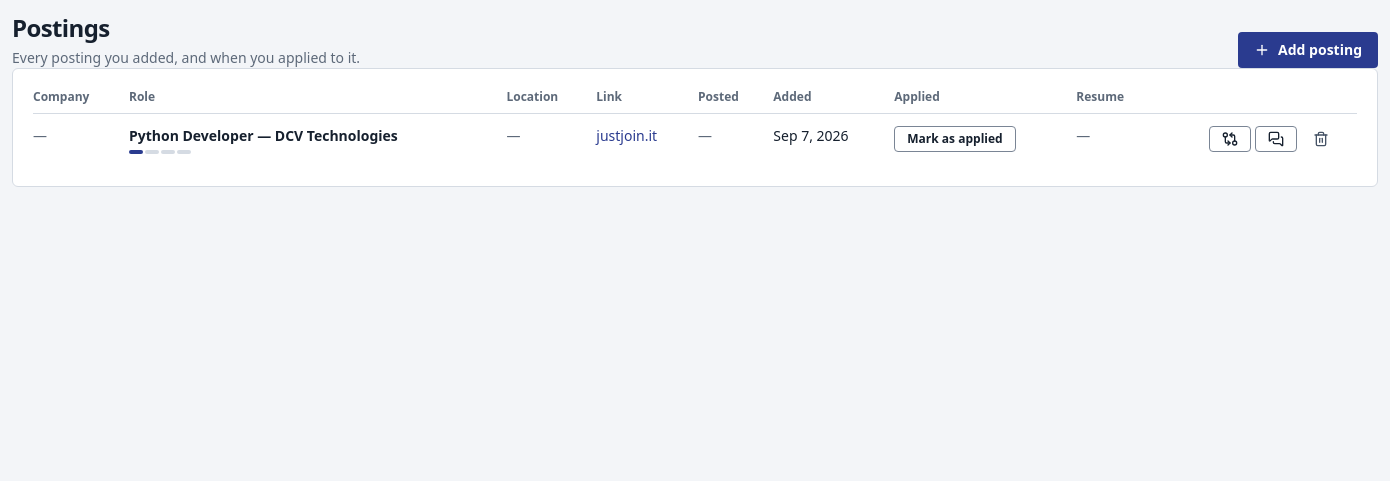
it: adding sits behind a button while there are postings to list
Check: the link "Python Developer — DCV Technologies" is shown, box [129,126,398,145]
Check: the field labelled "Job posting URL" is not shown
Click the button "Add posting" at (1308, 50), box [1238,32,1378,68]
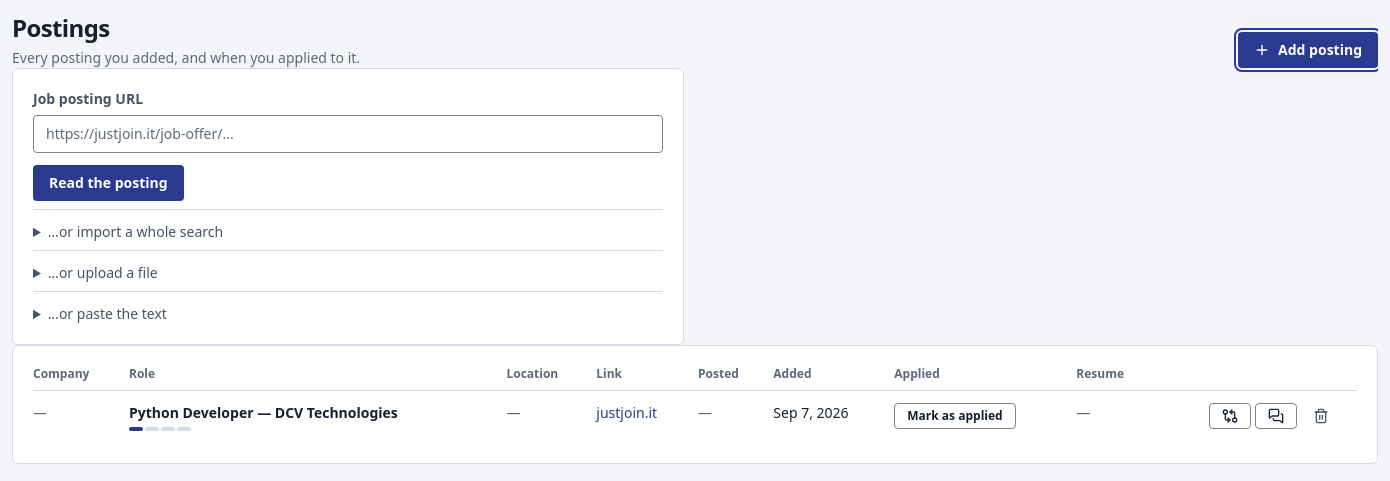
Check: the field labelled "Job posting URL" is shown, box [33,115,663,153]
